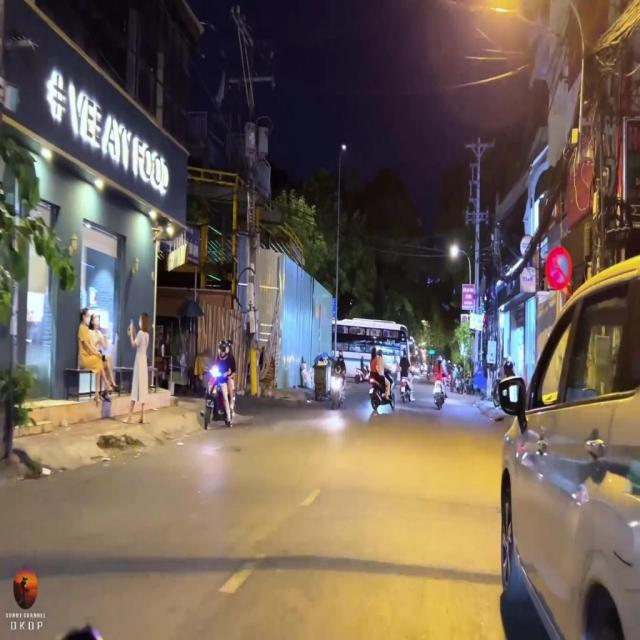cam_do_xe: (546, 246, 572, 290)
